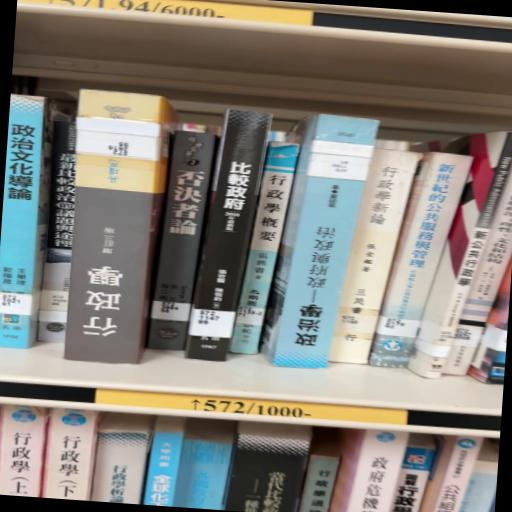reverse: (65, 91, 179, 365), (261, 116, 380, 370)
